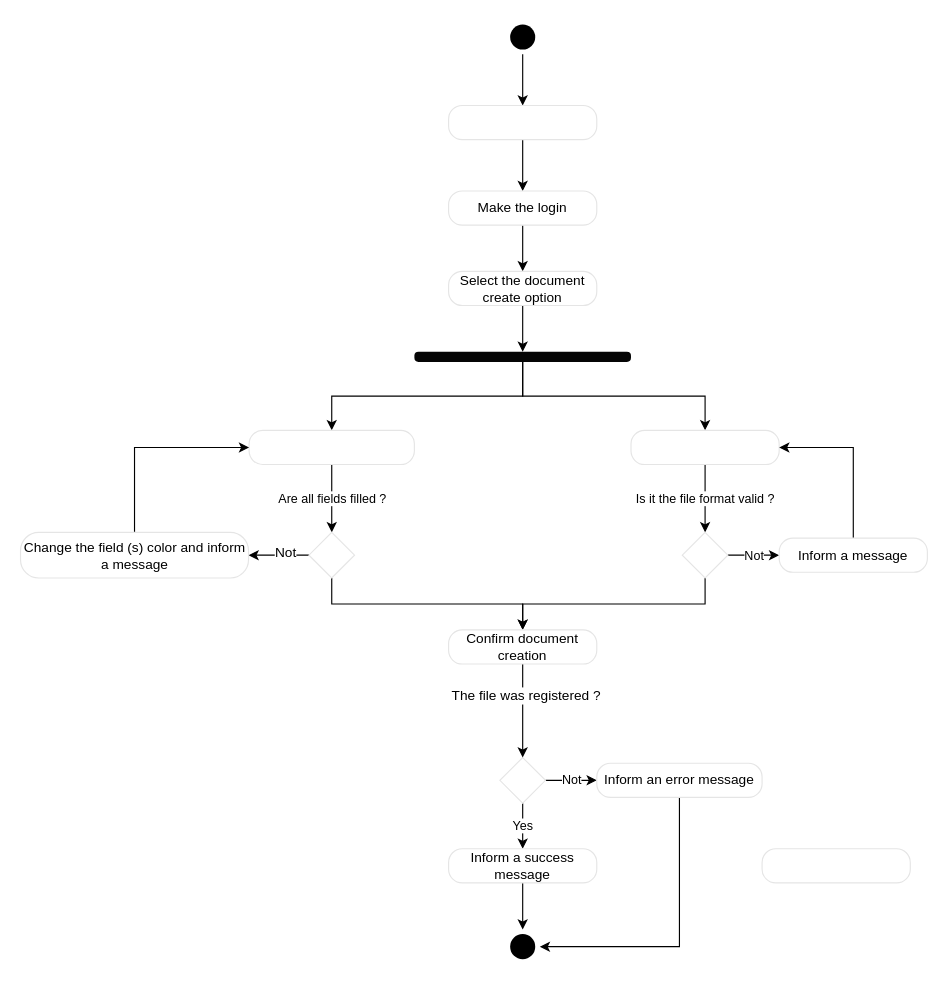
This 947x983 diagram has some shape labels left out. Here are the shapes that lost their labels. From the top down, the box of each, then its label:
(447, 104, 597, 140): Access the platform
(248, 429, 414, 465): Inform meta data fields
(630, 429, 779, 465): Select a file
